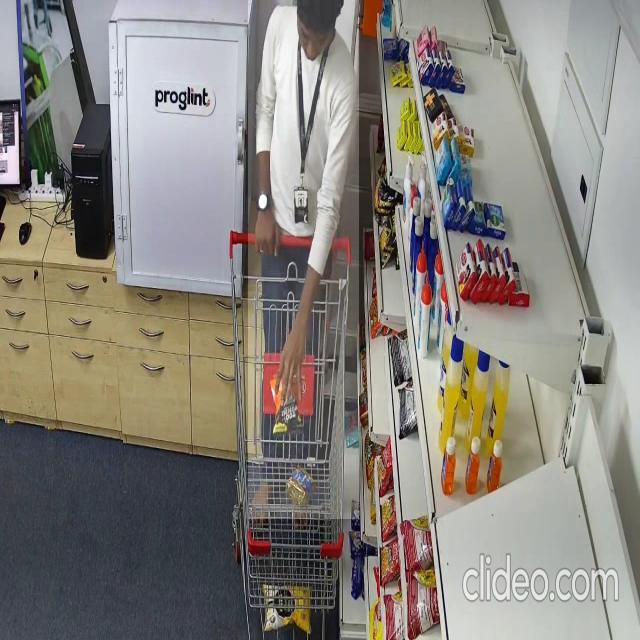normal: (248, 0, 359, 519)
